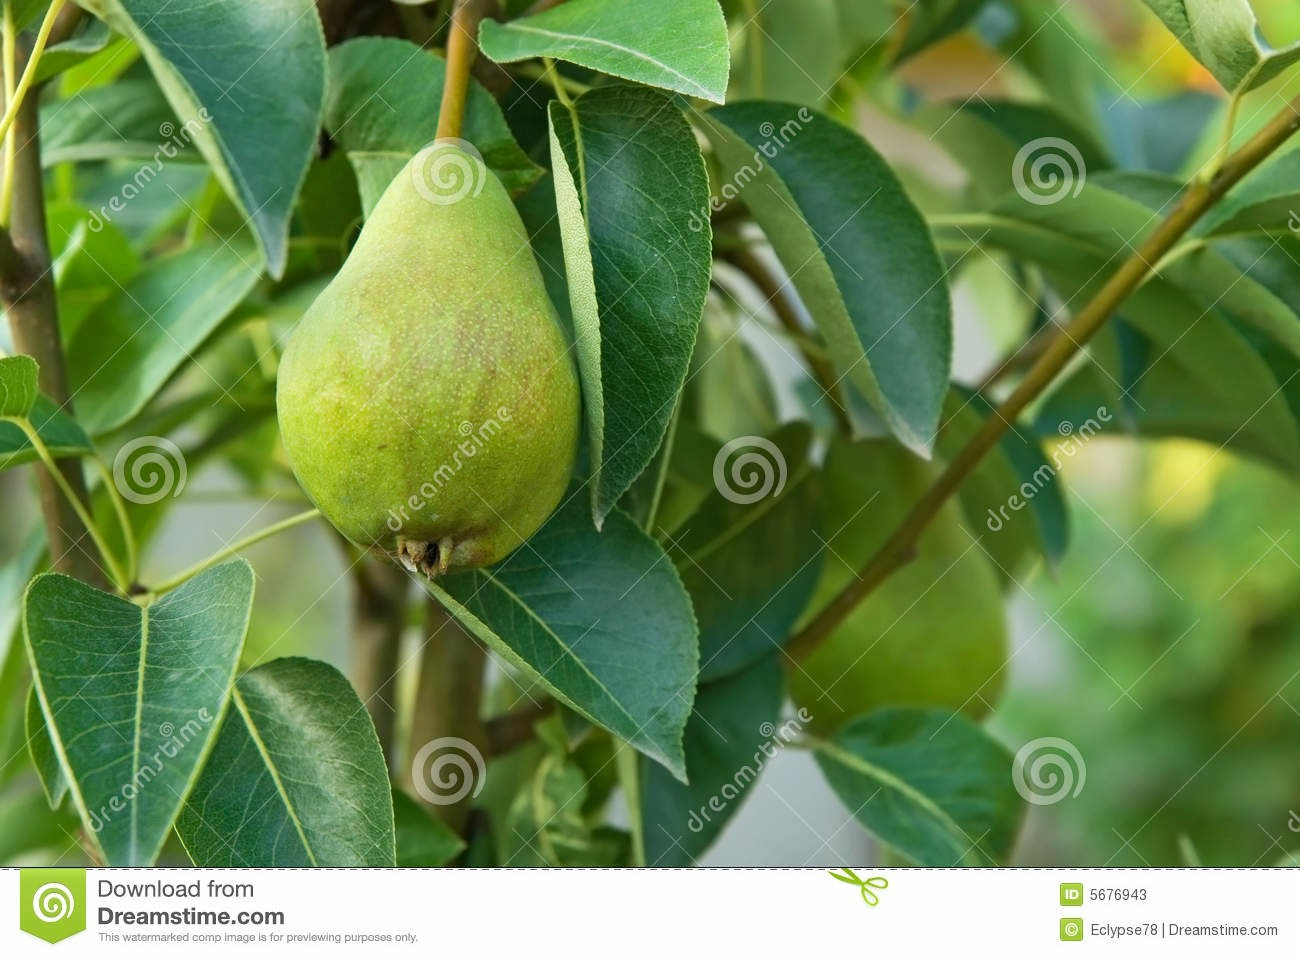pear: (275, 136, 576, 581)
